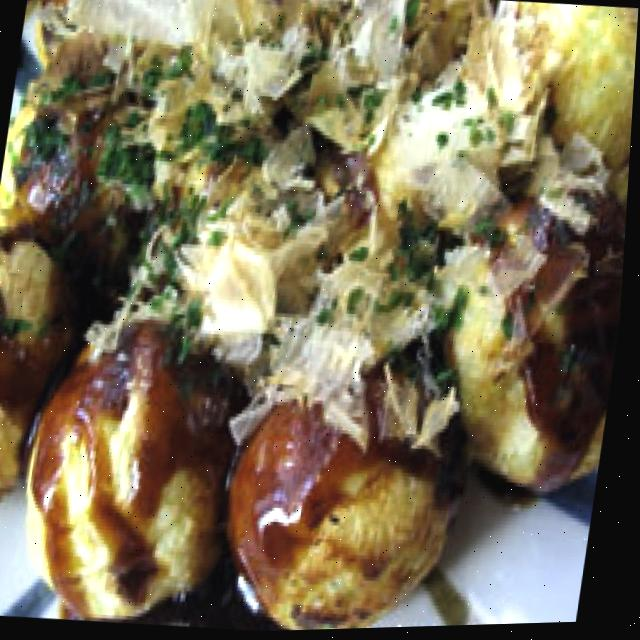炸货点心: (0, 0, 640, 631)
